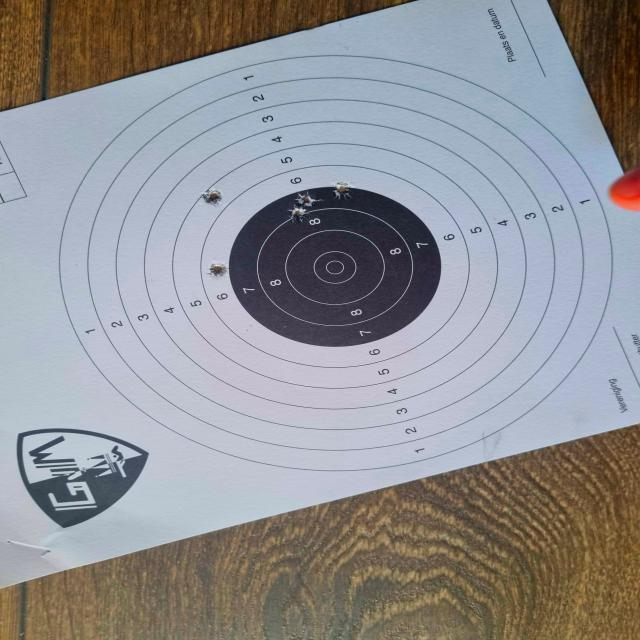5: (202, 188, 224, 207)
6: (206, 262, 227, 278)
7: (294, 190, 323, 208), (331, 182, 354, 200)
8: (286, 207, 310, 223)
Target: (57, 54, 616, 473)
black_contour: (228, 186, 442, 348)
